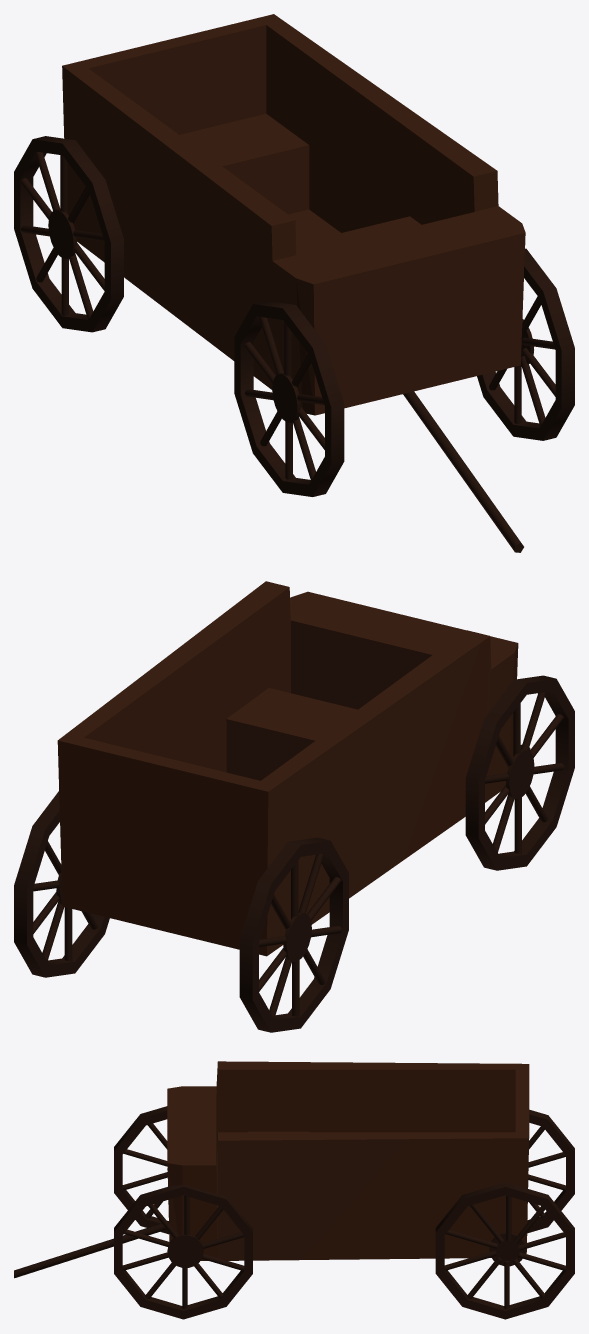
Rendered from Woz bez nakrycia.FBX.
3 views of the same model, one above another, from view 1: azimuth 30°, elevation 25°; view 2: azimuth 150°, elevation 25°; view 3: azimuth 270°, elevation 25° (orthographic). The views are drawn at different scales.
Parts seen in each view (by area): view 1: Box001; view 2: Box001; view 3: Box001.
Part boxes in pixels (x1=…): Box001: x1=14, y1=14, x2=574, y2=552; Box001: x1=14, y1=581, x2=574, y2=1032; Box001: x1=14, y1=1061, x2=574, y2=1319.
Size of the model in its own units: 53.42 by 52.26 by 148.
